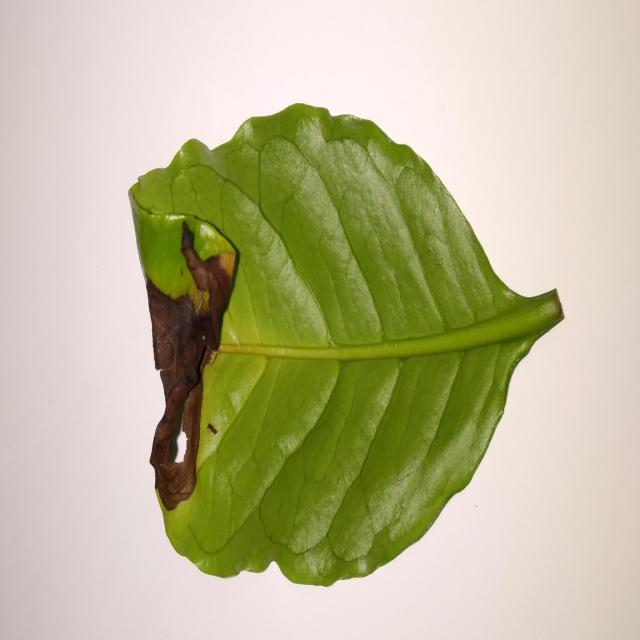Enfermedad-Antracnosis: (126, 103, 565, 590)
